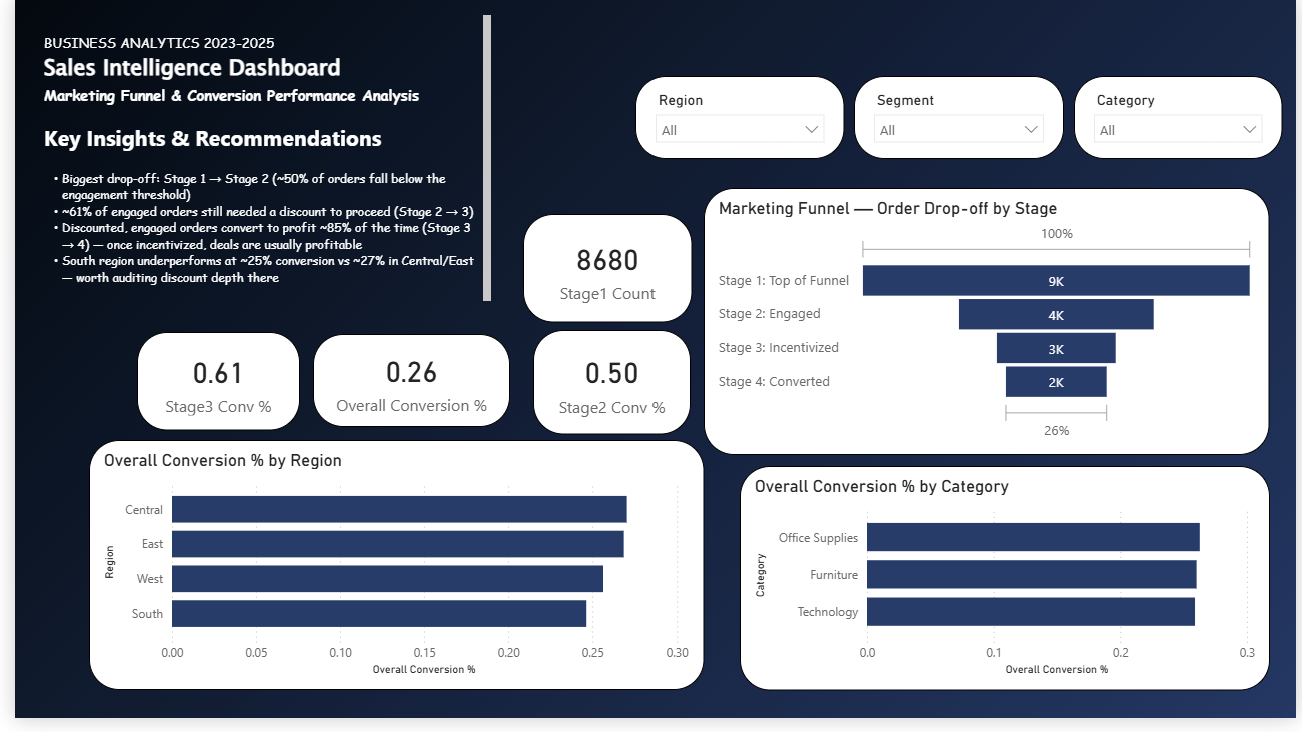

What the dashboard file says about the page in this screenshot:
{"tool":"powerbi","page":{"name":"Page 3","canvas":[1280,720],"ordinal":2},"visuals":[{"type":"funnel","title":"Marketing Funnel — Order Drop-off by Stage","fields":{"Category":["Stage.StageName"],"Y":["Sum(Stage.StageValue)"]},"box":[688.6,190,565.7,267.1],"z":0},{"type":"clusteredBarChart","fields":{"Category":["Data.Region"],"Y":["Data.Overall Conversion %"]},"box":[74.3,442.9,614.3,250],"z":1000},{"type":"barChart","fields":{"Y":["Data.Overall Conversion %"],"Category":["Data.Category"]},"box":[724.3,468.6,530,224.3],"z":2000},{"type":"card","fields":{"Values":["Data.Stage1 Count"]},"box":[507.1,215.7,168.6,108.6],"z":3000},{"type":"card","fields":{"Values":["Data.Stage3 Conv %"]},"box":[121.4,334.3,162.9,98.6],"z":4000},{"type":"card","fields":{"Values":["Data.Stage2 Conv %"]},"box":[518.6,331.4,157.1,104.3],"z":5000},{"type":"card","fields":{"Values":["Data.Overall Conversion %"]},"box":[297.1,335.7,197.1,92.9],"z":6000},{"type":"slicer","fields":{"Values":["Data.Region"]},"box":[620,77.1,208.6,82.9],"z":7000},{"type":"slicer","fields":{"Values":["Data.Category"]},"box":[1058.6,77.1,208.6,82.9],"z":8000},{"type":"slicer","fields":{"Values":["Data.Segment"]},"box":[838.6,77.1,210,82.9],"z":9000},{"type":"textbox","box":[24.3,12.9,457.1,297.1],"z":10000}]}

Visuals, with their boxes in screenshot pixels (x1, y1, x2, y2), scaled from the page's 1280x720 canvas onto the 1302x732 screenshot:
"Marketing Funnel — Order Drop-off by Stage" funnel: (left=700, top=193, right=1276, bottom=465)
clusteredBarChart - Data.Region x Data.Overall Conversion %: (left=76, top=450, right=700, bottom=704)
barChart - Data.Overall Conversion % x Data.Category: (left=737, top=476, right=1276, bottom=704)
card - Data.Stage1 Count: (left=516, top=219, right=687, bottom=330)
card - Data.Stage3 Conv %: (left=123, top=340, right=289, bottom=440)
card - Data.Stage2 Conv %: (left=528, top=337, right=687, bottom=443)
card - Data.Overall Conversion %: (left=302, top=341, right=503, bottom=436)
slicer - Data.Region: (left=631, top=78, right=843, bottom=163)
slicer - Data.Category: (left=1077, top=78, right=1289, bottom=163)
slicer - Data.Segment: (left=853, top=78, right=1067, bottom=163)
textbox: (left=25, top=13, right=490, bottom=315)
